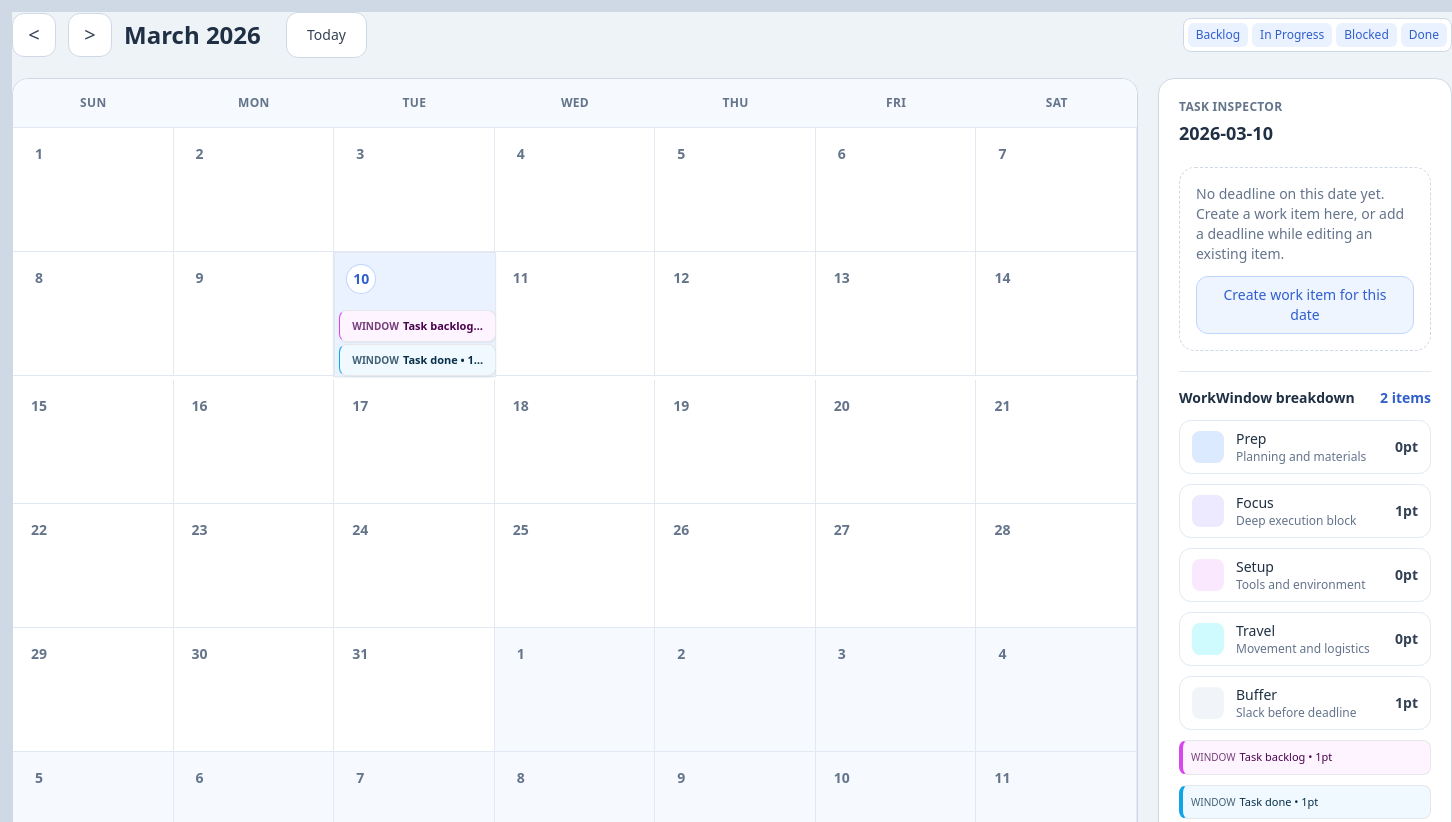
Test: MonthCalendar › filters visible day blocks by selected statuses
Expected: the button "Task backlog • 1pt" below "Sun" is shown, [339, 310, 496, 342]
Expected: the button "Task done • 1pt" below "Sun" is shown, [339, 344, 496, 376]
What coordinates should you click on to do the following:
click the button "Done"
I would click on:
 (1424, 35)
Its box is [1401, 23, 1447, 47].
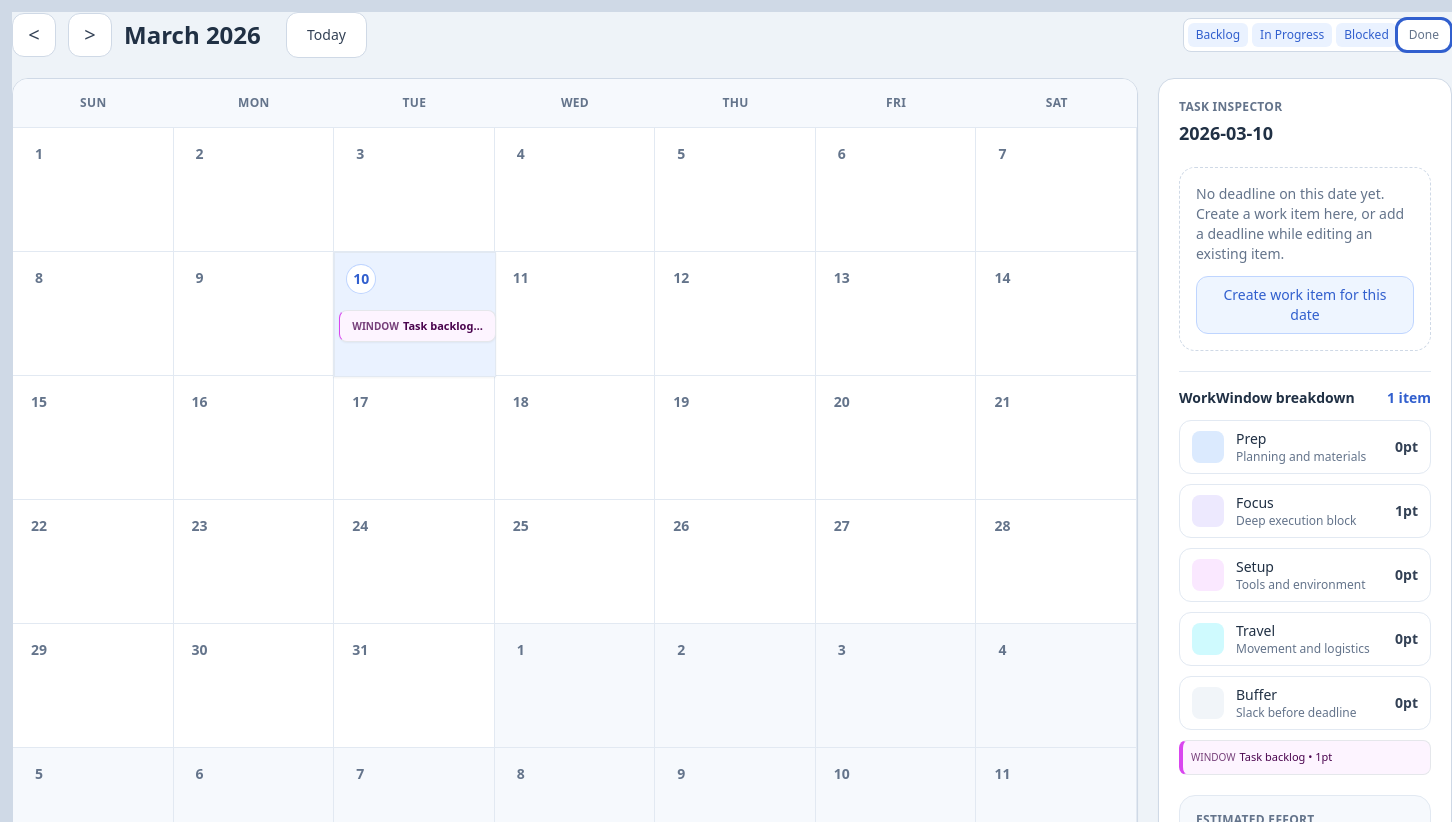
Expected: the button "Task backlog • 1pt" below "Sun" is shown, [339, 310, 496, 342]
Expected: the button "Task done • 1pt" is gone
